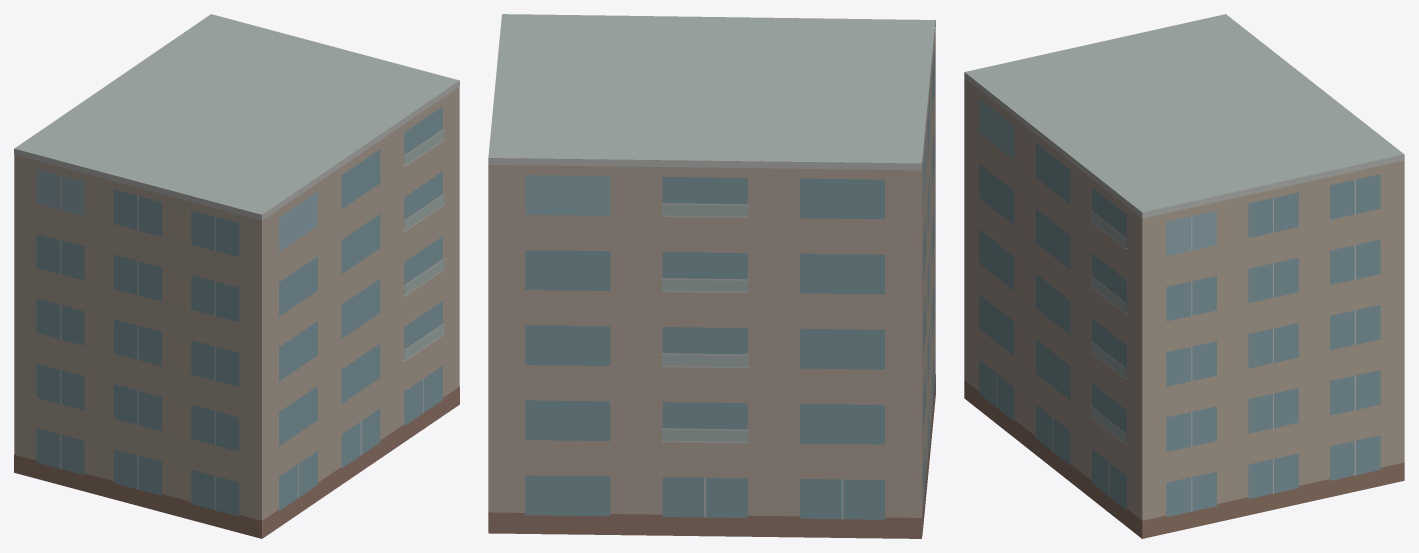
File: survey-upis-32889634.glb
The picture shows the model from 3 angles, left to right: view 1: azimuth 30°, elevation 25°; view 2: azimuth 150°, elevation 25°; view 3: azimuth 270°, elevation 25°; orthographic projection. The views are drawn at different scales.
Visible parts, largest first — view 1: survey-upis-32889634.tmp; view 2: survey-upis-32889634.tmp; view 3: survey-upis-32889634.tmp.
Part boxes in pixels (<box>): survey-upis-32889634.tmp: <box>14,14,459,538</box>; survey-upis-32889634.tmp: <box>488,14,935,538</box>; survey-upis-32889634.tmp: <box>964,14,1404,538</box>.
Bounding box in the file's own units: 17.23 × 13.2 × 16.14.
